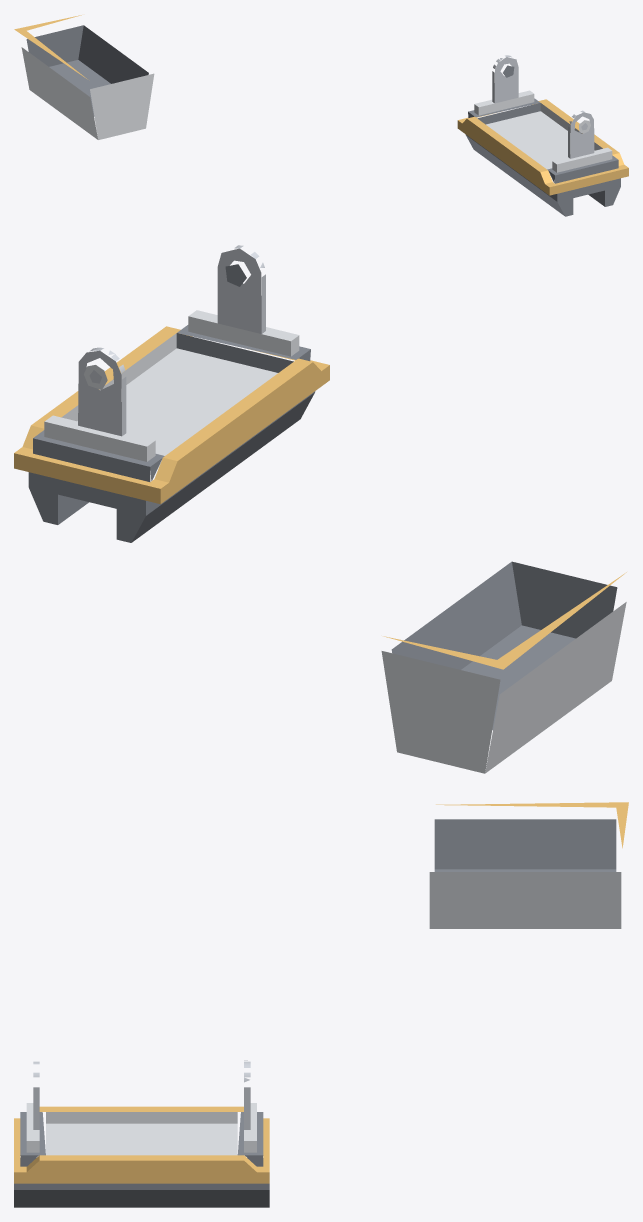
The model's file is monorail_trainCargo_lod1.glb.
3 views of the same model, one above another, from view 1: azimuth 30°, elevation 25°; view 2: azimuth 150°, elevation 25°; view 3: azimuth 270°, elevation 25° (orthographic). The views are drawn at different scales.
Visible parts, largest first — view 1: monorail_trainCargo.001, load.001; view 2: monorail_trainCargo.001, load.001; view 3: monorail_trainCargo.001, load.001.
Part boxes in pixels (x1,y1,x2,y2): monorail_trainCargo.001: [457, 55, 628, 216]; load.001: [14, 15, 154, 139]; monorail_trainCargo.001: [14, 245, 329, 542]; load.001: [381, 561, 626, 773]; monorail_trainCargo.001: [14, 1060, 269, 1207]; load.001: [429, 802, 628, 928].
Bounding box in the file's own units: 2.48 × 0.64 × 2.4.
